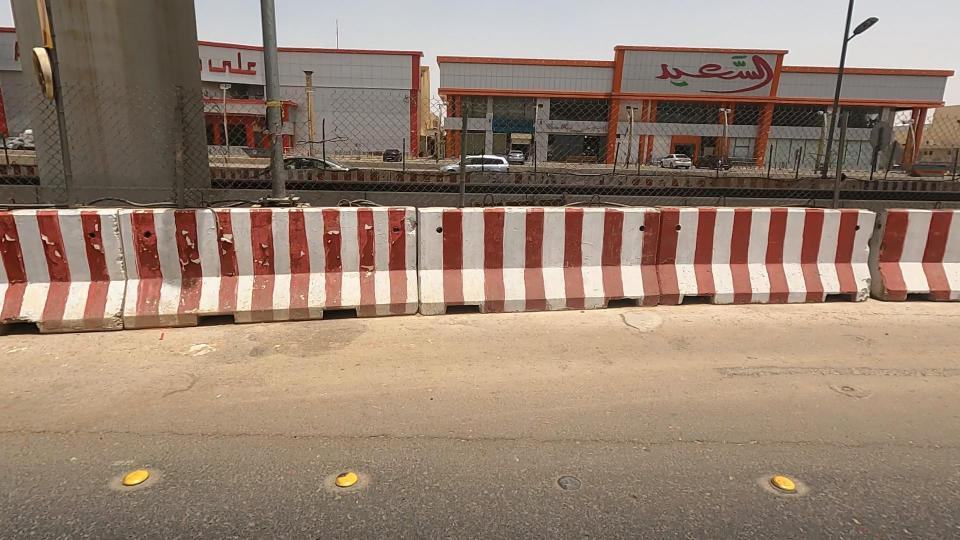CONSTRUCTION_ROAD: (219, 137, 749, 348), (538, 130, 960, 359), (0, 151, 443, 362)
